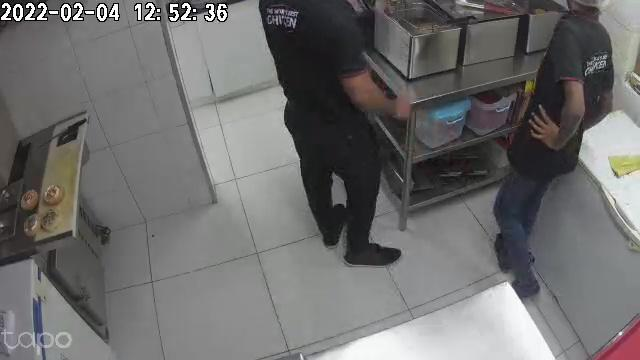no_gloves: (533, 104, 561, 151)
